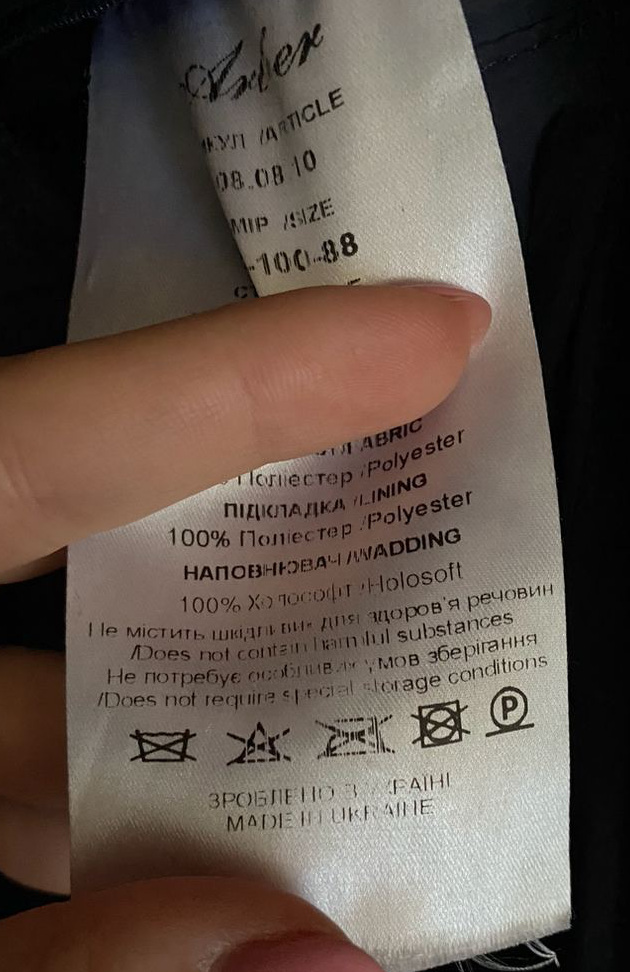do_not_bleach: (223, 715, 301, 770)
do_not_iron: (312, 708, 402, 762)
do_not_tumble_drying: (408, 693, 477, 756)
do_not_wash: (125, 723, 204, 768)
gentle_cleaning_with_pce: (482, 679, 538, 741)
